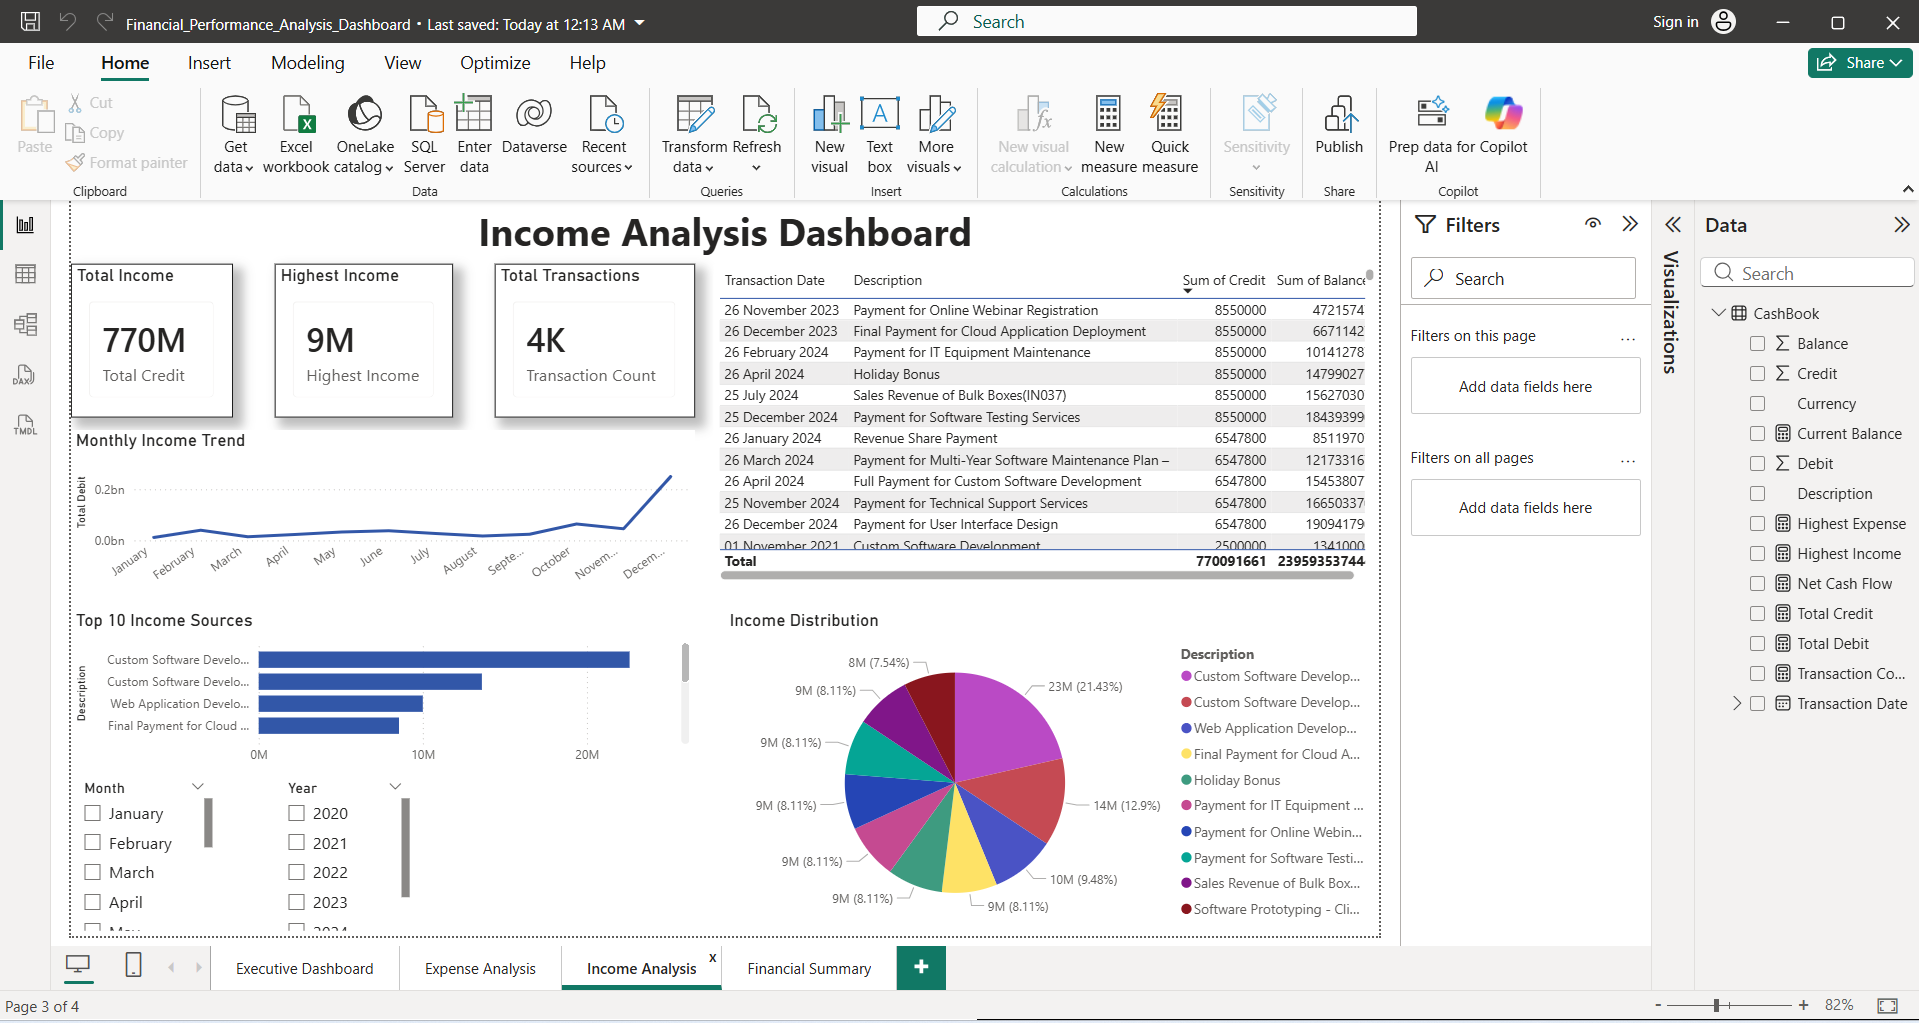

What the dashboard file says about the page in this screenshot:
{"tool":"powerbi","page":{"name":"Income Analysis","canvas":[1280,720],"ordinal":2},"visuals":[{"type":"textbox","box":[0,0,1280,62.9],"z":0},{"type":"cardVisual","title":"Total Income","fields":{"Data":["CashBook.Total Credit"]},"box":[0,62.9,158.6,150],"z":1000},{"type":"cardVisual","title":"Highest Income","fields":{"Data":["CashBook.Highest Income"]},"box":[199.3,62.9,174.3,150],"z":2000},{"type":"cardVisual","title":"Total Transactions","fields":{"Data":["CashBook.Transaction Count"]},"box":[414.3,62.9,195.7,150],"z":3000},{"type":"lineChart","title":"Monthly Income Trend","fields":{"Category":["CashBook.Transaction Date.Variation.Date Hierarchy.Month"],"Y":["CashBook.Total Debit"]},"box":[0,225,610.2,160.2],"z":4000},{"type":"clusteredBarChart","title":"Top 10 Income Sources","fields":{"Category":["CashBook.Description"],"Y":["CashBook.Total Credit"]},"box":[0,401.1,610.2,160.2],"z":5000},{"type":"pieChart","title":"Income Distribution","fields":{"Category":["CashBook.Description"],"Y":["CashBook.Total Credit"]},"box":[639.5,401.1,640.8,319.2],"z":6000},{"type":"tableEx","fields":{"Values":["CashBook.Transaction Date","CashBook.Description","Sum(CashBook.Credit)","Sum(CashBook.Balance)"]},"box":[628.5,62.4,651.8,314.3],"z":7000},{"type":"slicer","fields":{"Values":["CashBook.Transaction Date.Variation.Date Hierarchy.Month"]},"box":[0,561.3,143.1,159],"z":8000},{"type":"slicer","fields":{"Values":["CashBook.Transaction Date.Variation.Date Hierarchy.Year"]},"box":[199.3,561.3,137,159],"z":9000}]}

Visuals, with their boxes on the page's 1280x720 design canvas (x1, y1, x2, y2). These are canvas units, not pixel positions in the 1919x1023 screenshot, which may show the page scaled, cropped or inside an application window:
textbox: bbox=[0, 0, 1280, 63]
"Total Income" cardVisual: bbox=[0, 63, 159, 213]
"Highest Income" cardVisual: bbox=[199, 63, 374, 213]
"Total Transactions" cardVisual: bbox=[414, 63, 610, 213]
"Monthly Income Trend" lineChart: bbox=[0, 225, 610, 385]
"Top 10 Income Sources" clusteredBarChart: bbox=[0, 401, 610, 561]
"Income Distribution" pieChart: bbox=[640, 401, 1280, 720]
tableEx - CashBook.Transaction Date x CashBook.Description: bbox=[628, 62, 1280, 377]
slicer - CashBook.Transaction Date.Variation.Date Hierarchy.Month: bbox=[0, 561, 143, 720]
slicer - CashBook.Transaction Date.Variation.Date Hierarchy.Year: bbox=[199, 561, 336, 720]
